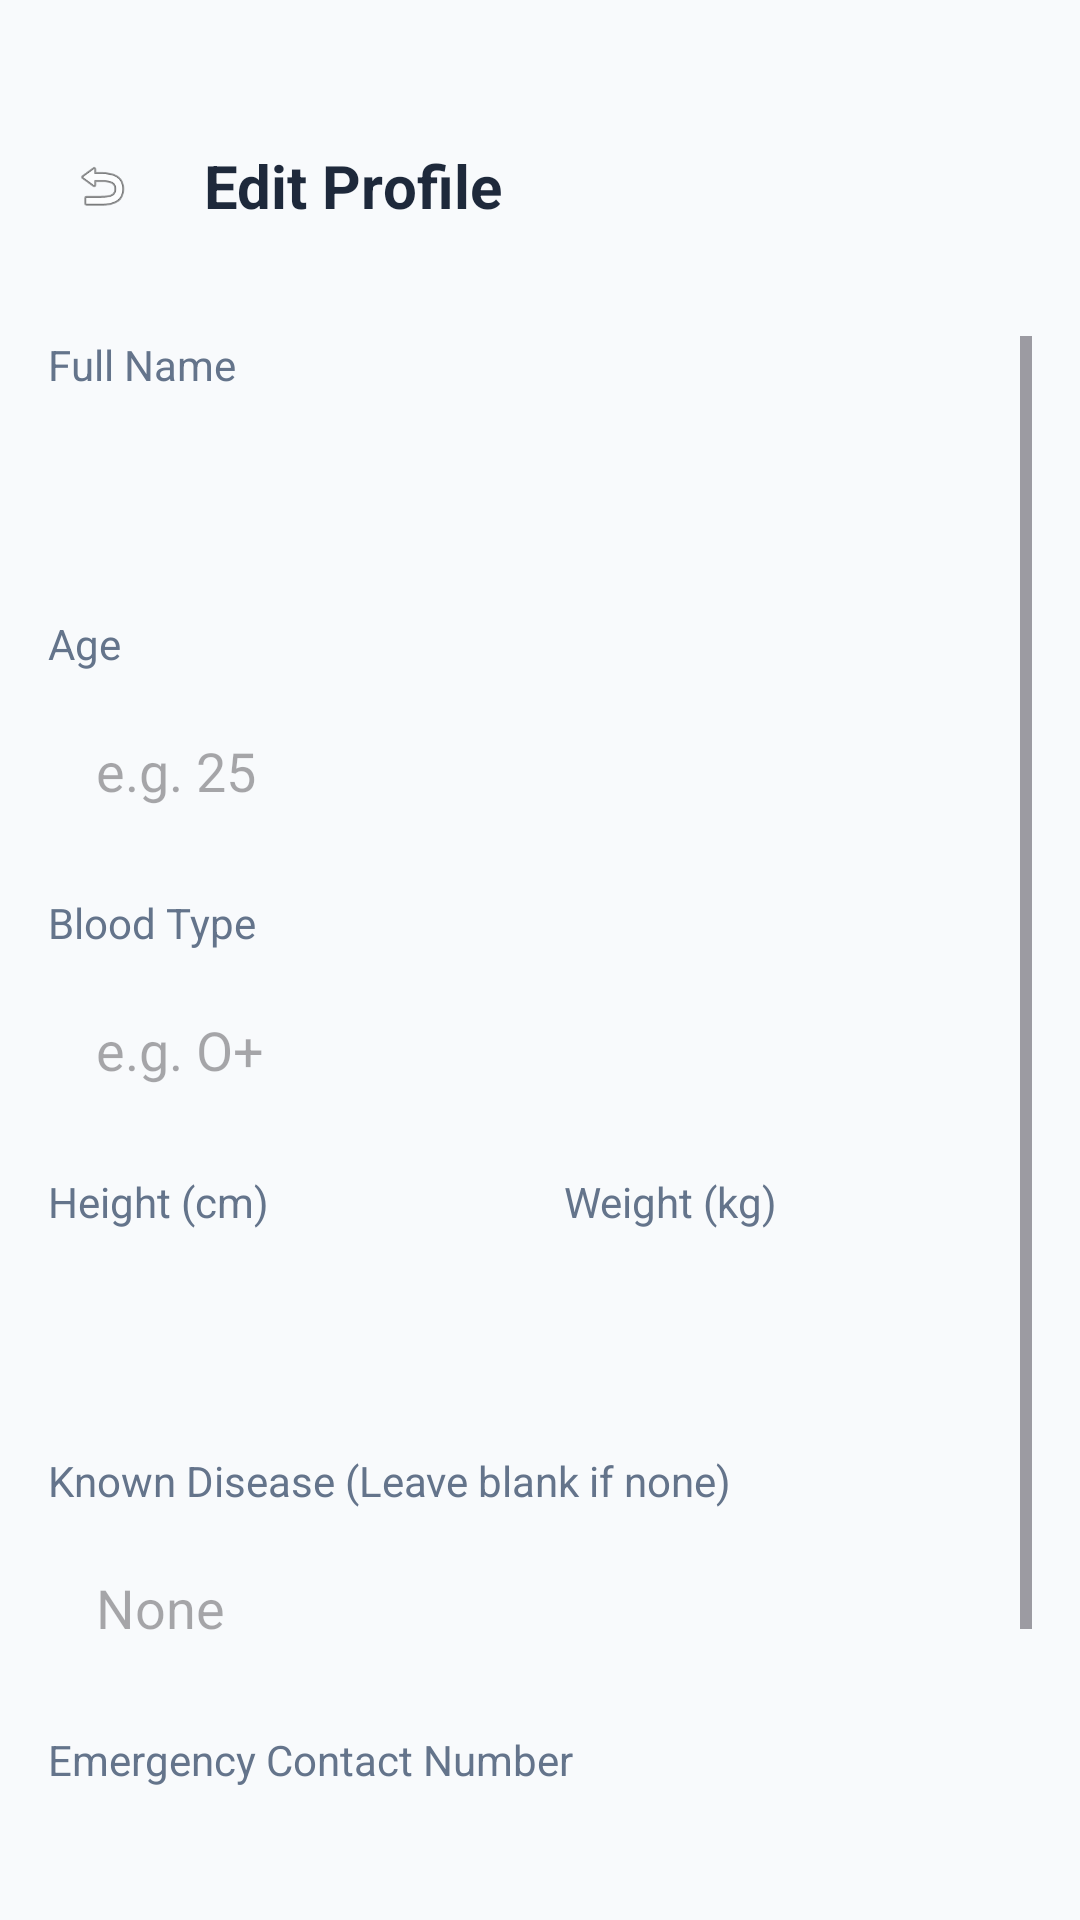

Where to tap for icons on this 1080x1920 app screen, as (x=x, y=y):
revert: (x=103, y=186)
